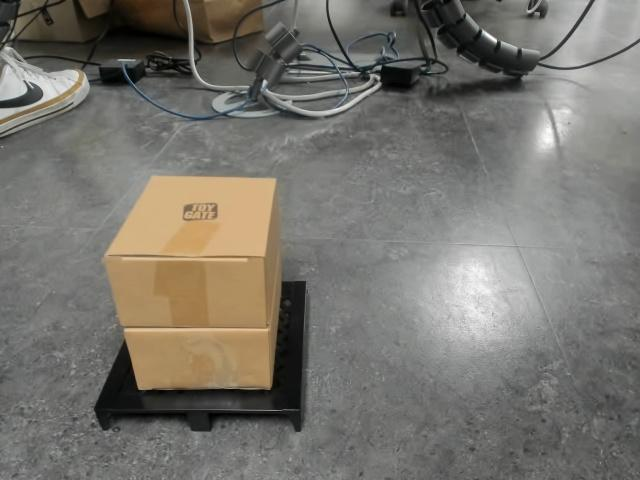box: (94, 175, 309, 433)
